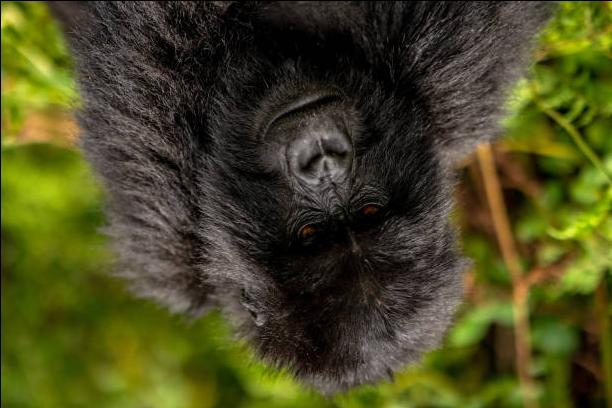goriile_montagne: (16, 0, 534, 408)
